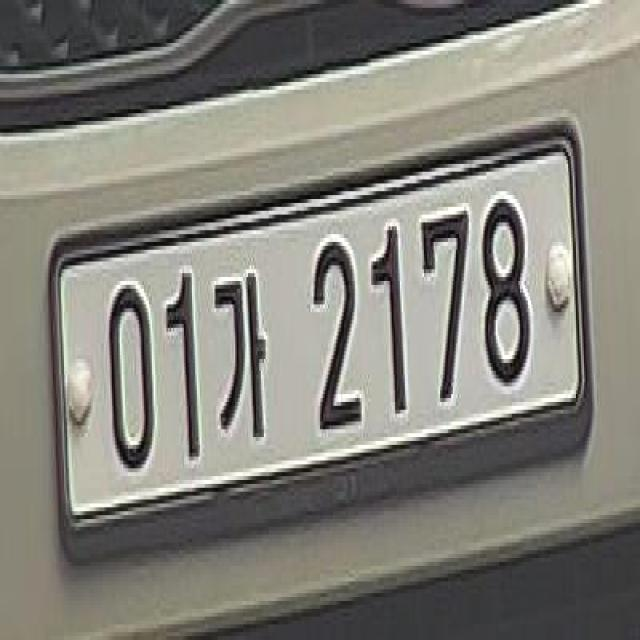illegal_plate: (50, 126, 602, 591)
